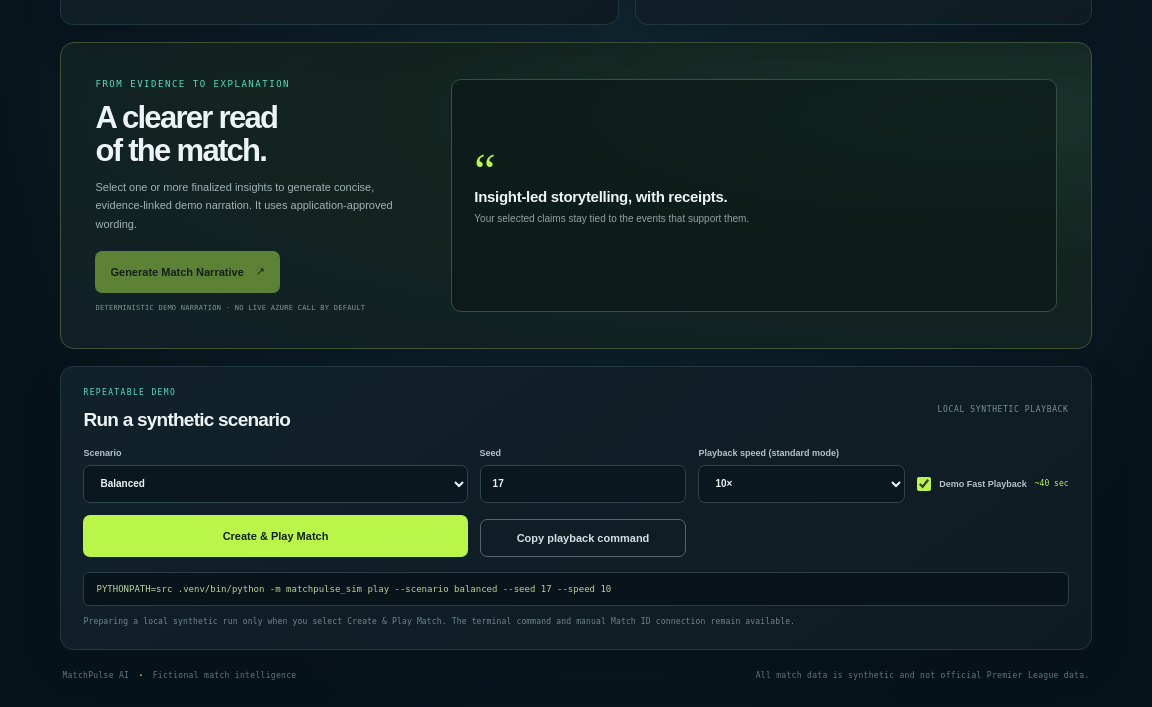
Test: dashboard › keeps standard playback speeds available when Demo Fast Playback is disabled
(page scrolled)
Click the checkbox labelled "Demo Fast Playback ~40 sec" at (924, 484), box [917,477,931,491]
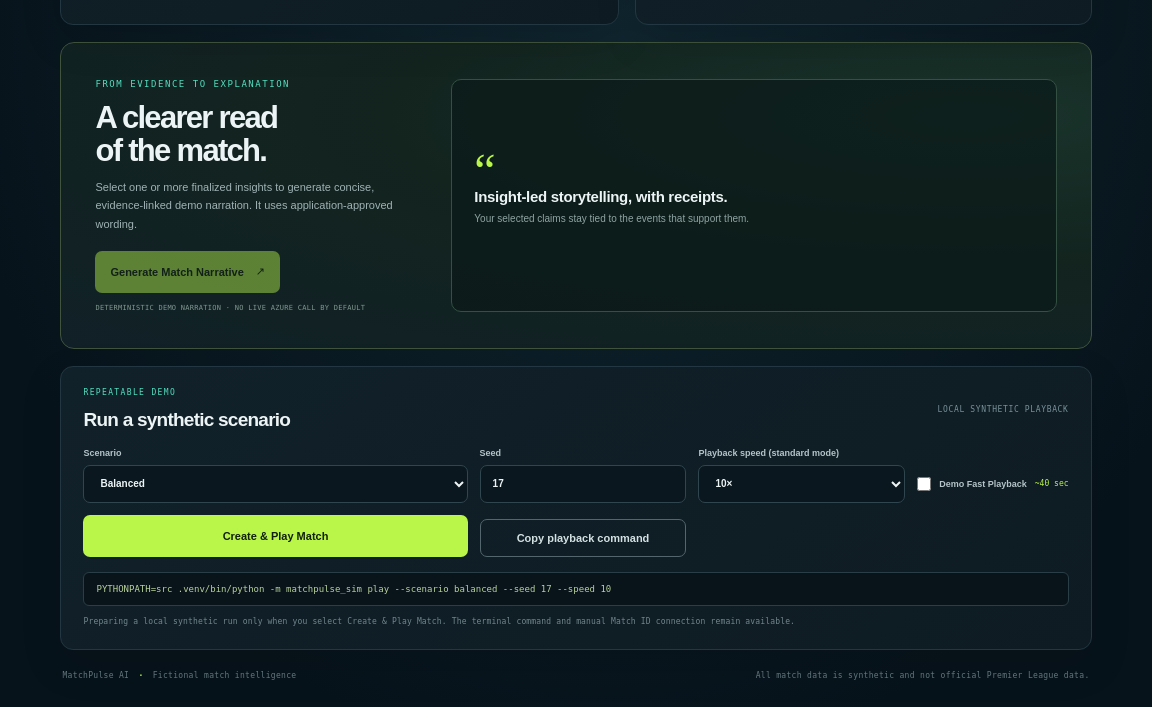
Select "5×" in the dropdown labelled "Playback speed (standard mode)" at (802, 484), box [698,465,905,503]
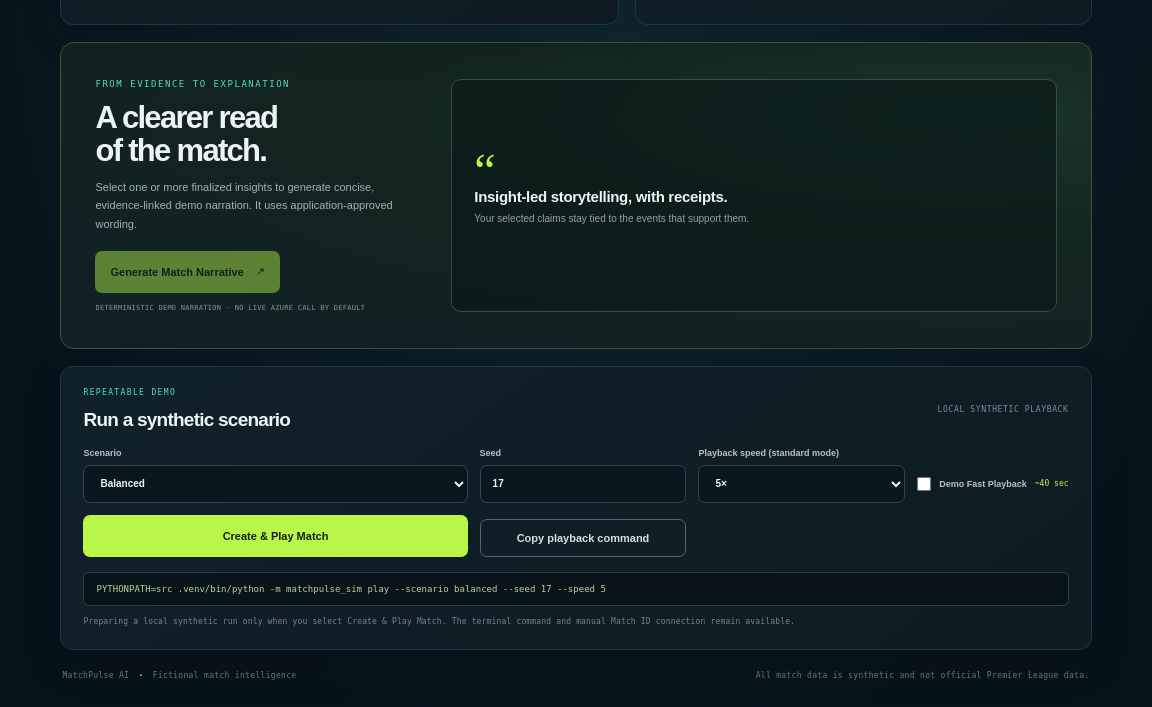
Click the button "Create & Play Match" at (276, 536), box [84,515,468,557]
(page scrolled)
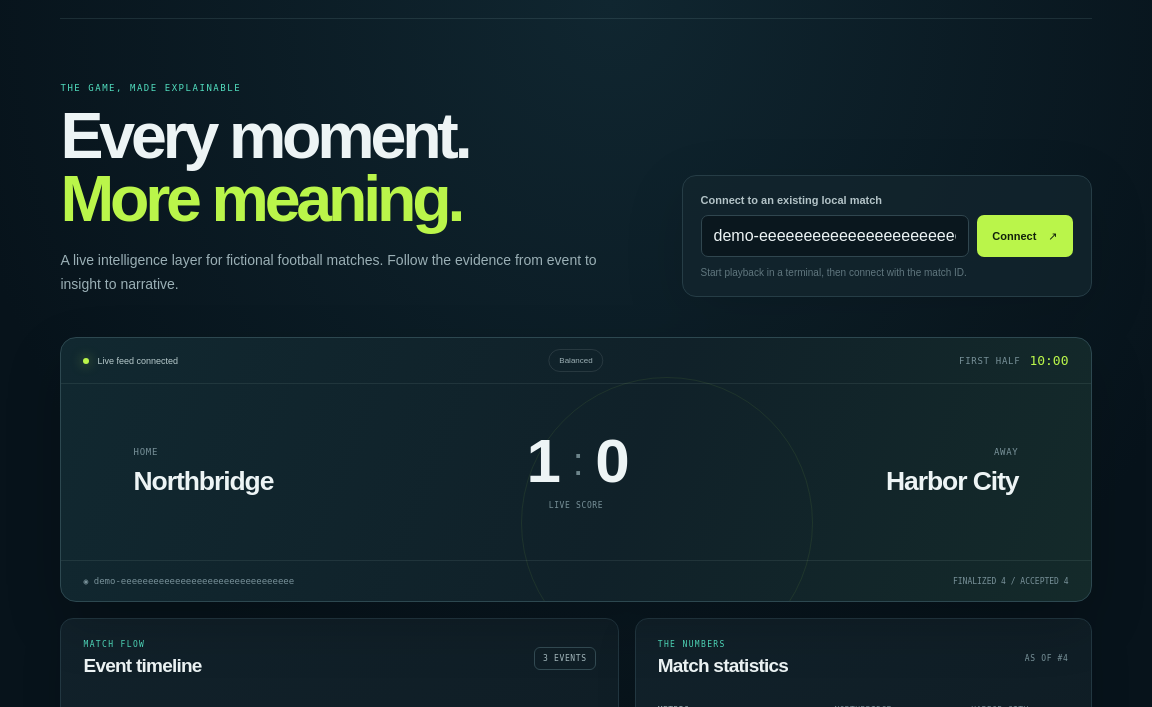
Check: the text "Live feed connected" is shown, box [84,356,178,366]
